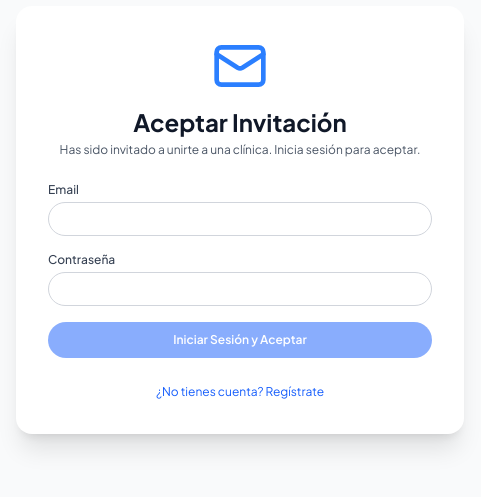
Scenario: AceptarInvitacion › debe mostrar error si login falla
Type "user@test.com" into the field labelled "Email" at {"x": 240, "y": 219}, box [48,202,432,236]
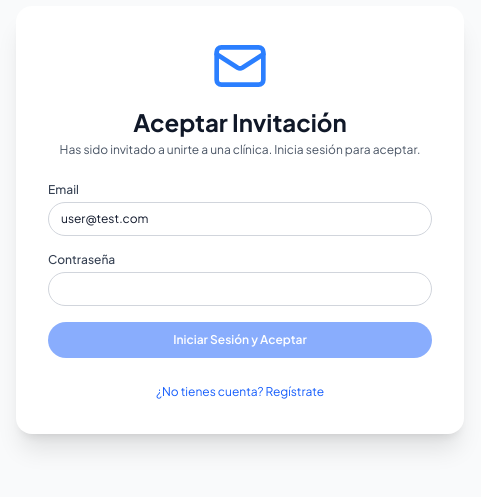
Type "wrong" into the password field labelled "Contraseña" at {"x": 240, "y": 289}, box [48,272,432,306]
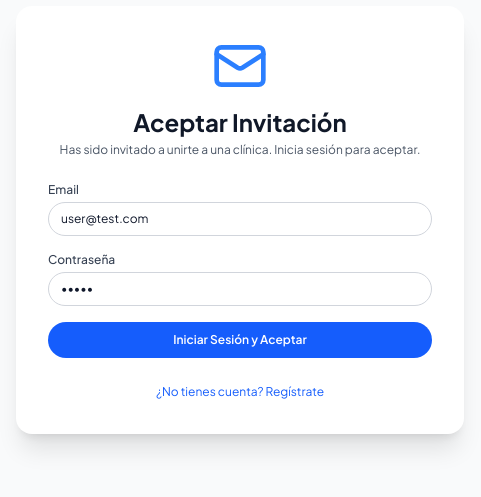
Click the button "Iniciar Sesión y Aceptar" at {"x": 240, "y": 340}, box [48,322,432,358]
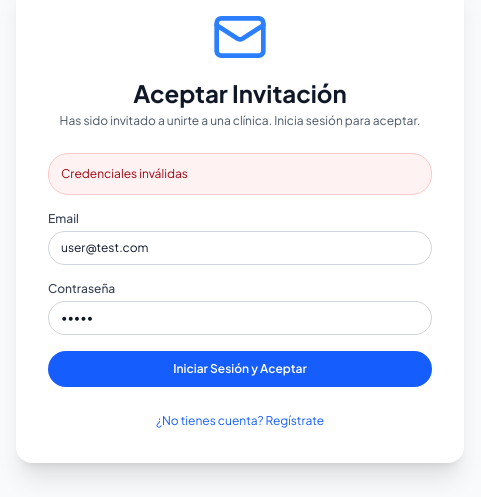
Expected: the text "Credenciales inválidas" is shown, [48,153,432,195]
